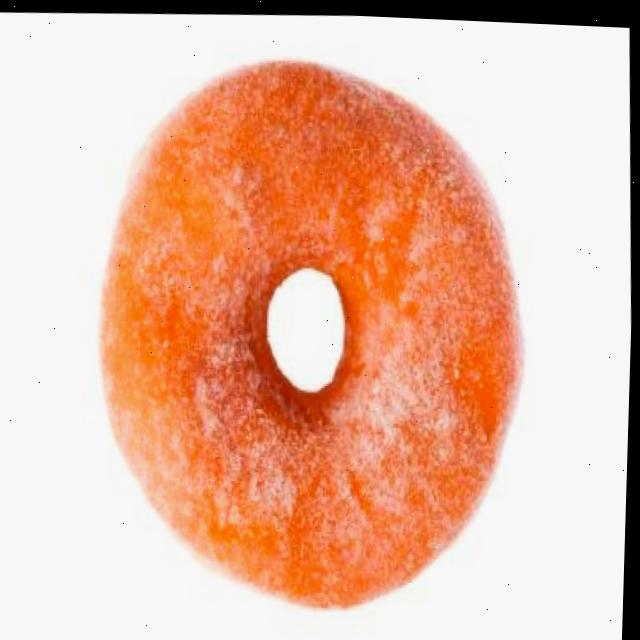炸货点心: (47, 32, 561, 627)
